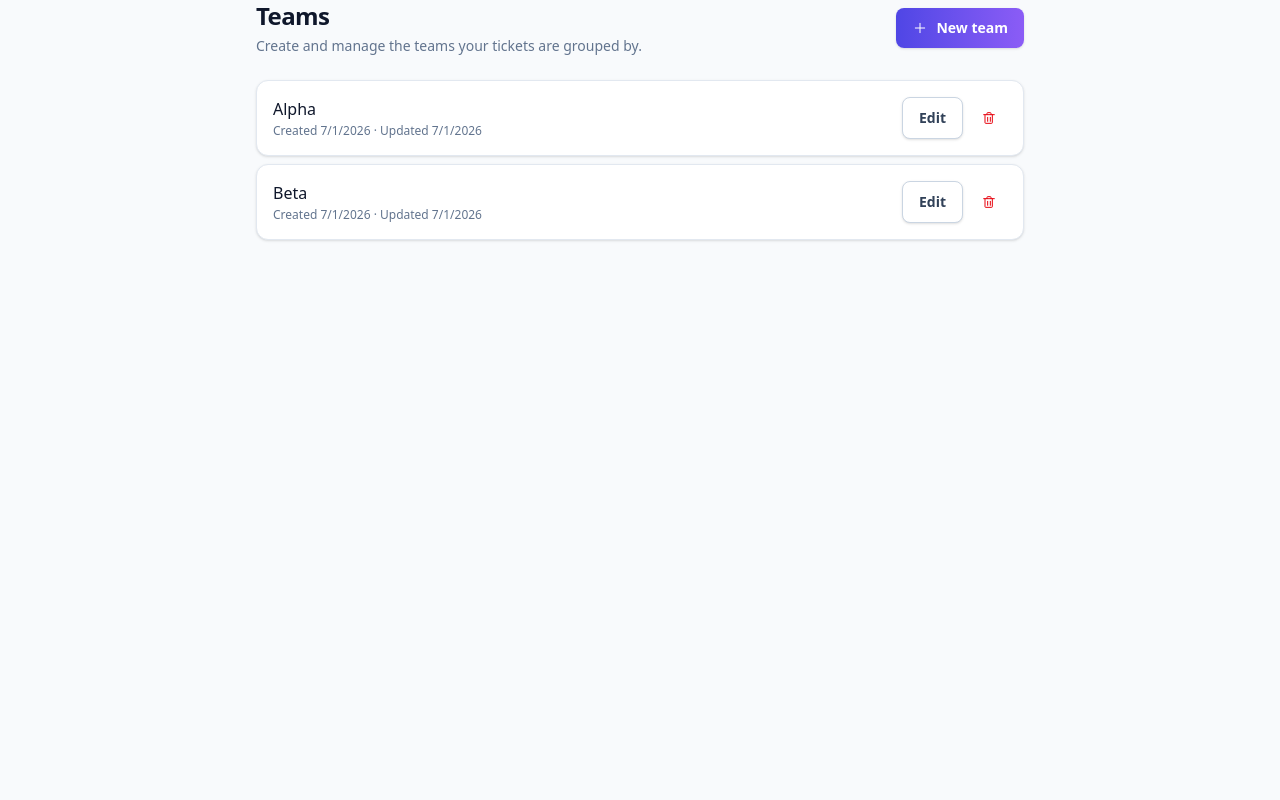
Test: a 409 on delete shows the still-referenced message
expect the text "Alpha" is shown: met, box [273,98,316,120]
Click the button named "Delete Alpha" at (989, 118), box [971,102,1007,134]
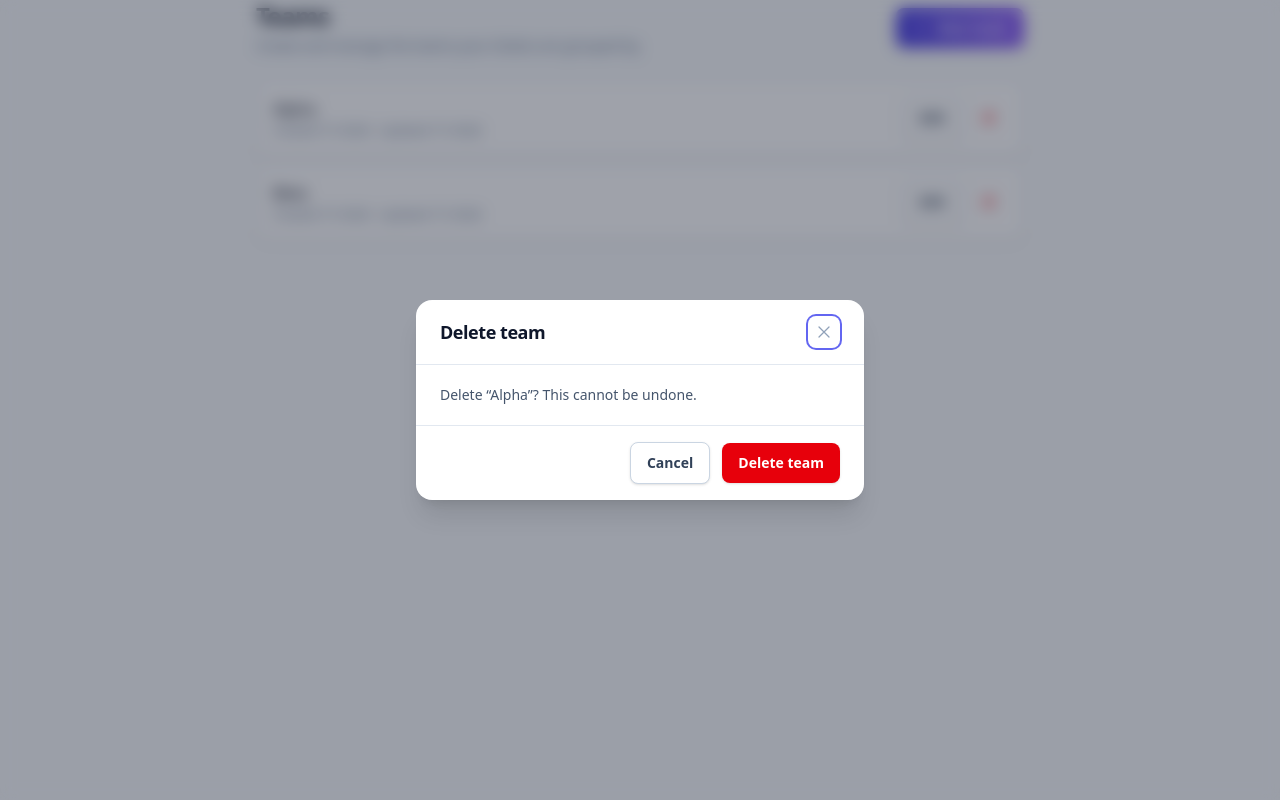
Click the button "Delete team" at (781, 463), box [722,443,840,483]
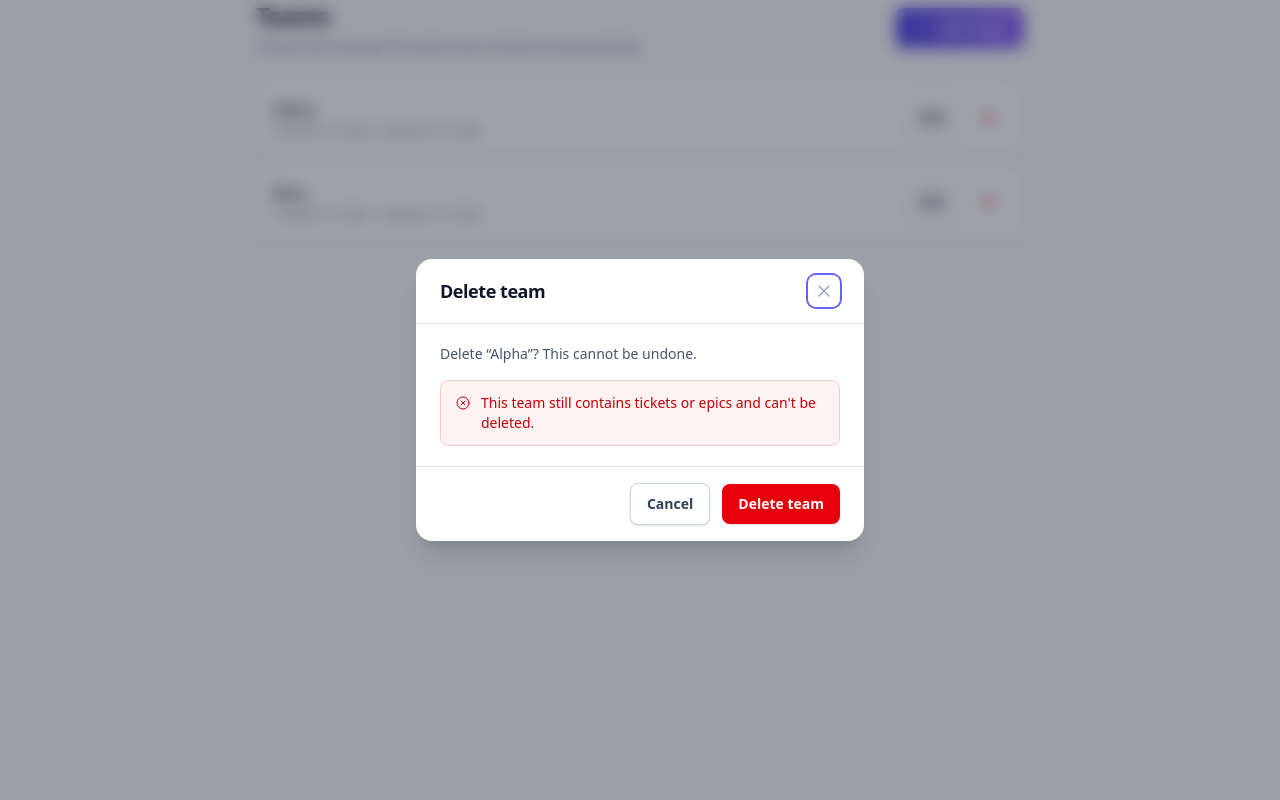
expect the text "still contains tickets or epics" is shown: met, box [481,393,816,432]
